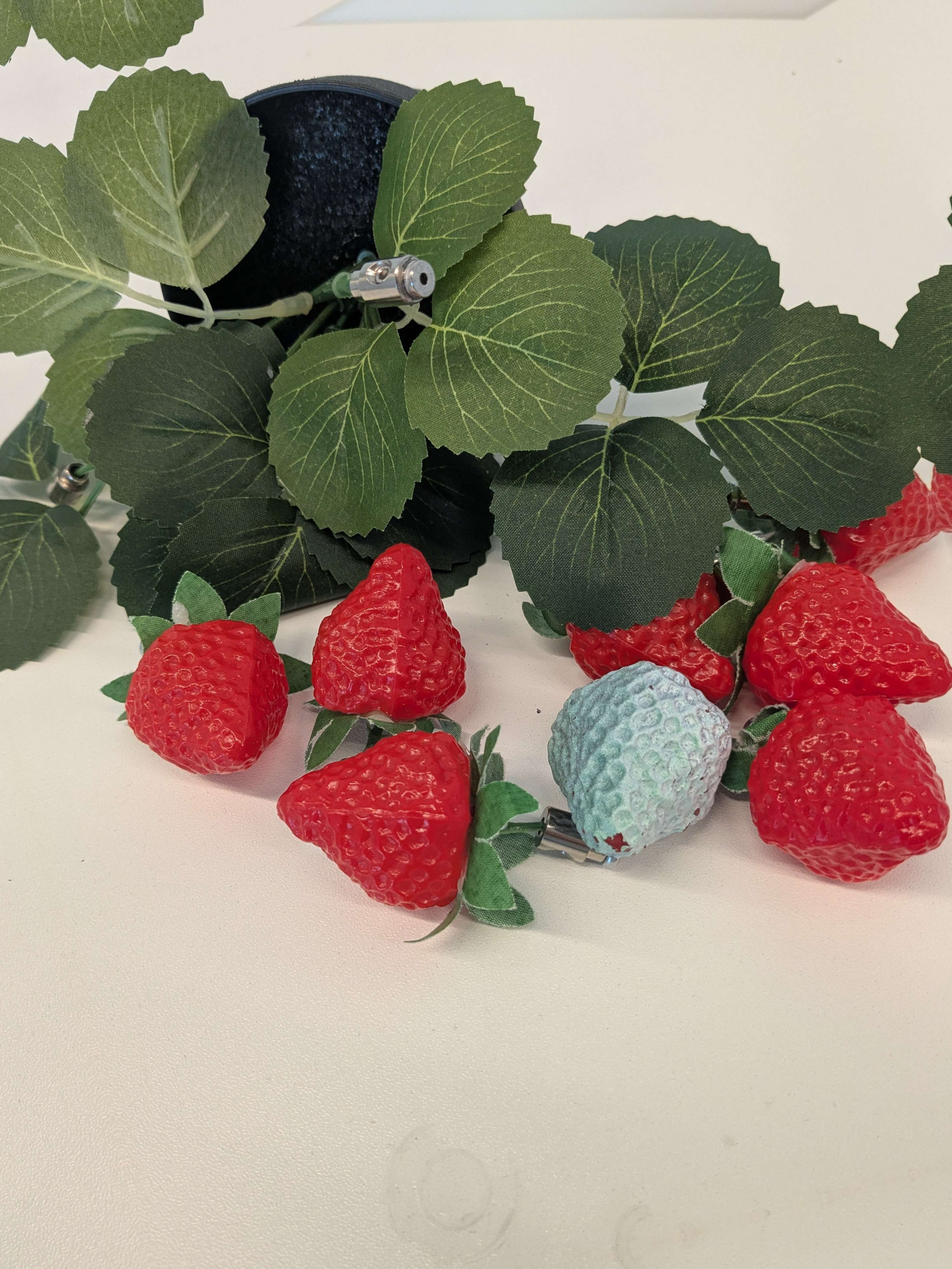Strawberry: (248, 697, 544, 970), (712, 650, 952, 927), (80, 570, 332, 818), (711, 532, 952, 771), (276, 526, 484, 751), (543, 541, 756, 735), (806, 462, 947, 584)
